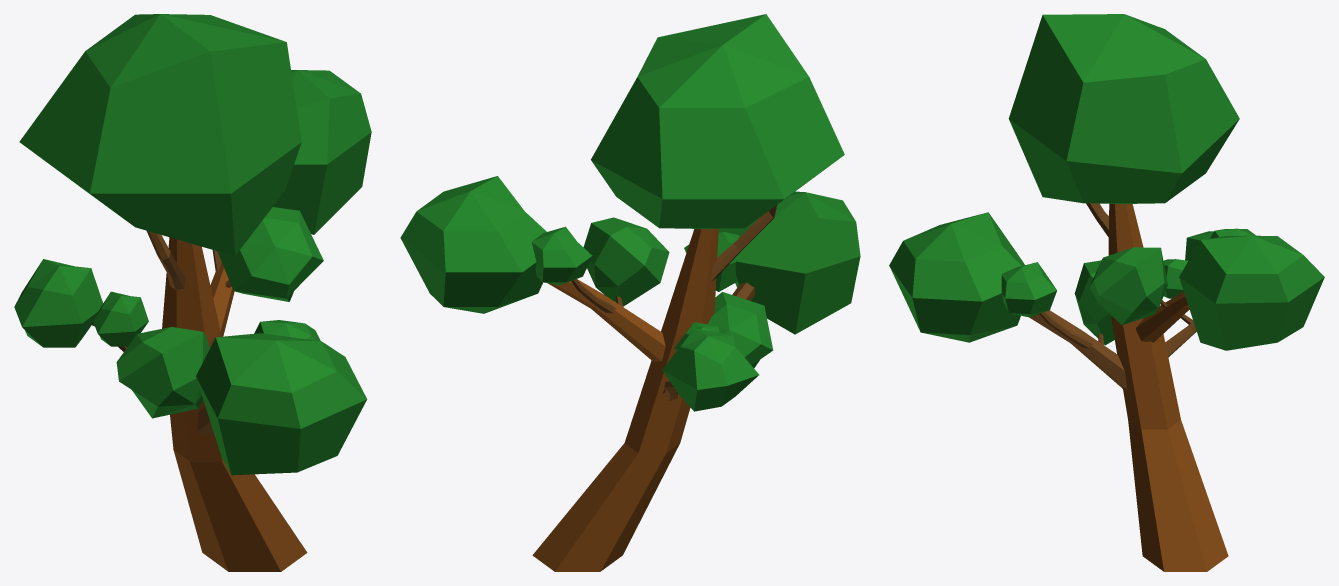
Rendered from tree04.fbx.
3 views of the same model, side by side, from view 1: azimuth 30°, elevation 25°; view 2: azimuth 150°, elevation 25°; view 3: azimuth 270°, elevation 25° (orthographic). The views are drawn at different scales.
Parts seen in each view (by area): view 1: Sphere.007; view 2: Sphere.007; view 3: Sphere.007.
Boxes of the visible parts, box(x1,y1,x2,y2) form: Sphere.007: box(14, 14, 371, 571); Sphere.007: box(400, 14, 860, 571); Sphere.007: box(889, 14, 1324, 571).
Size of the model in its own units: 975 by 1464 by 1181.
